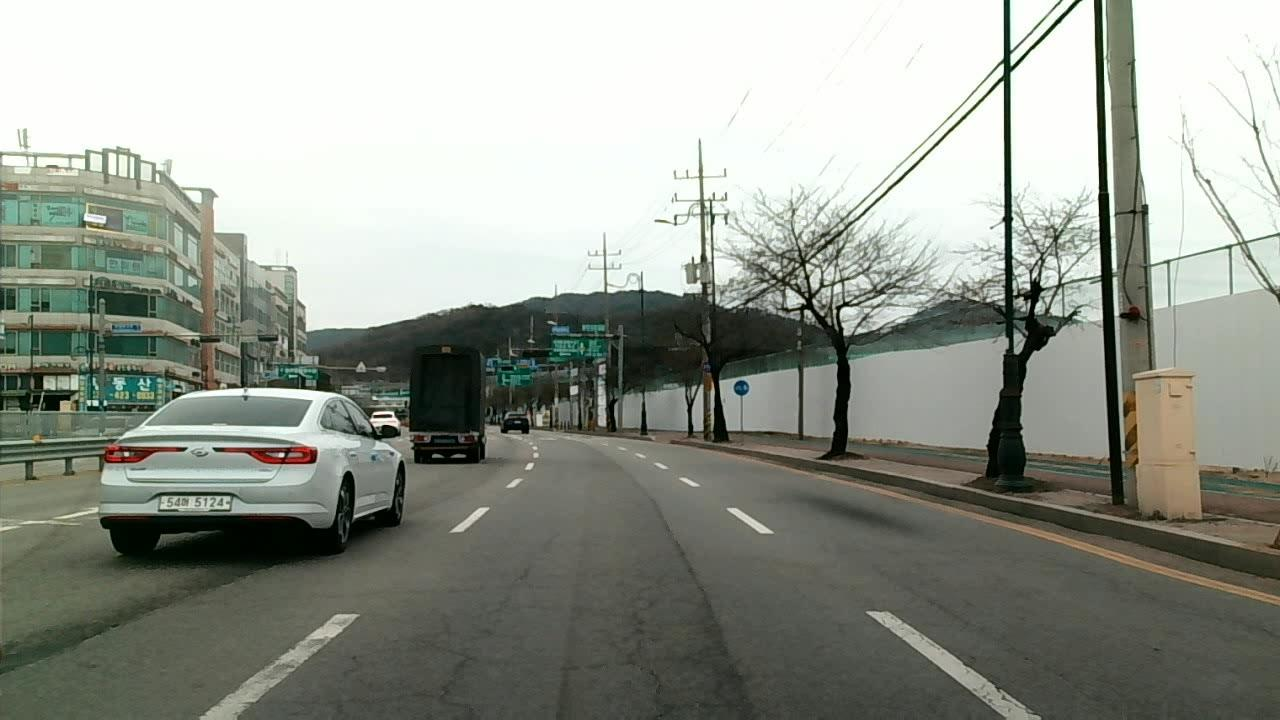vcrack: (897, 575, 1053, 673), (3, 596, 162, 687), (684, 575, 762, 720), (618, 593, 679, 720), (166, 554, 281, 603), (427, 645, 493, 720), (646, 492, 687, 569)
